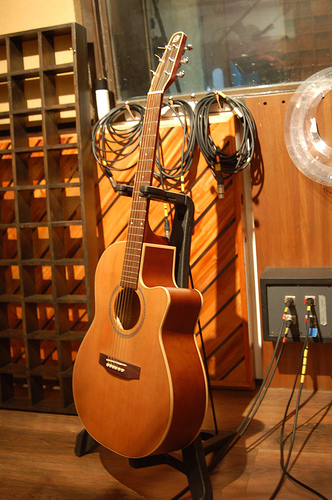guitar: (71, 30, 209, 465)
